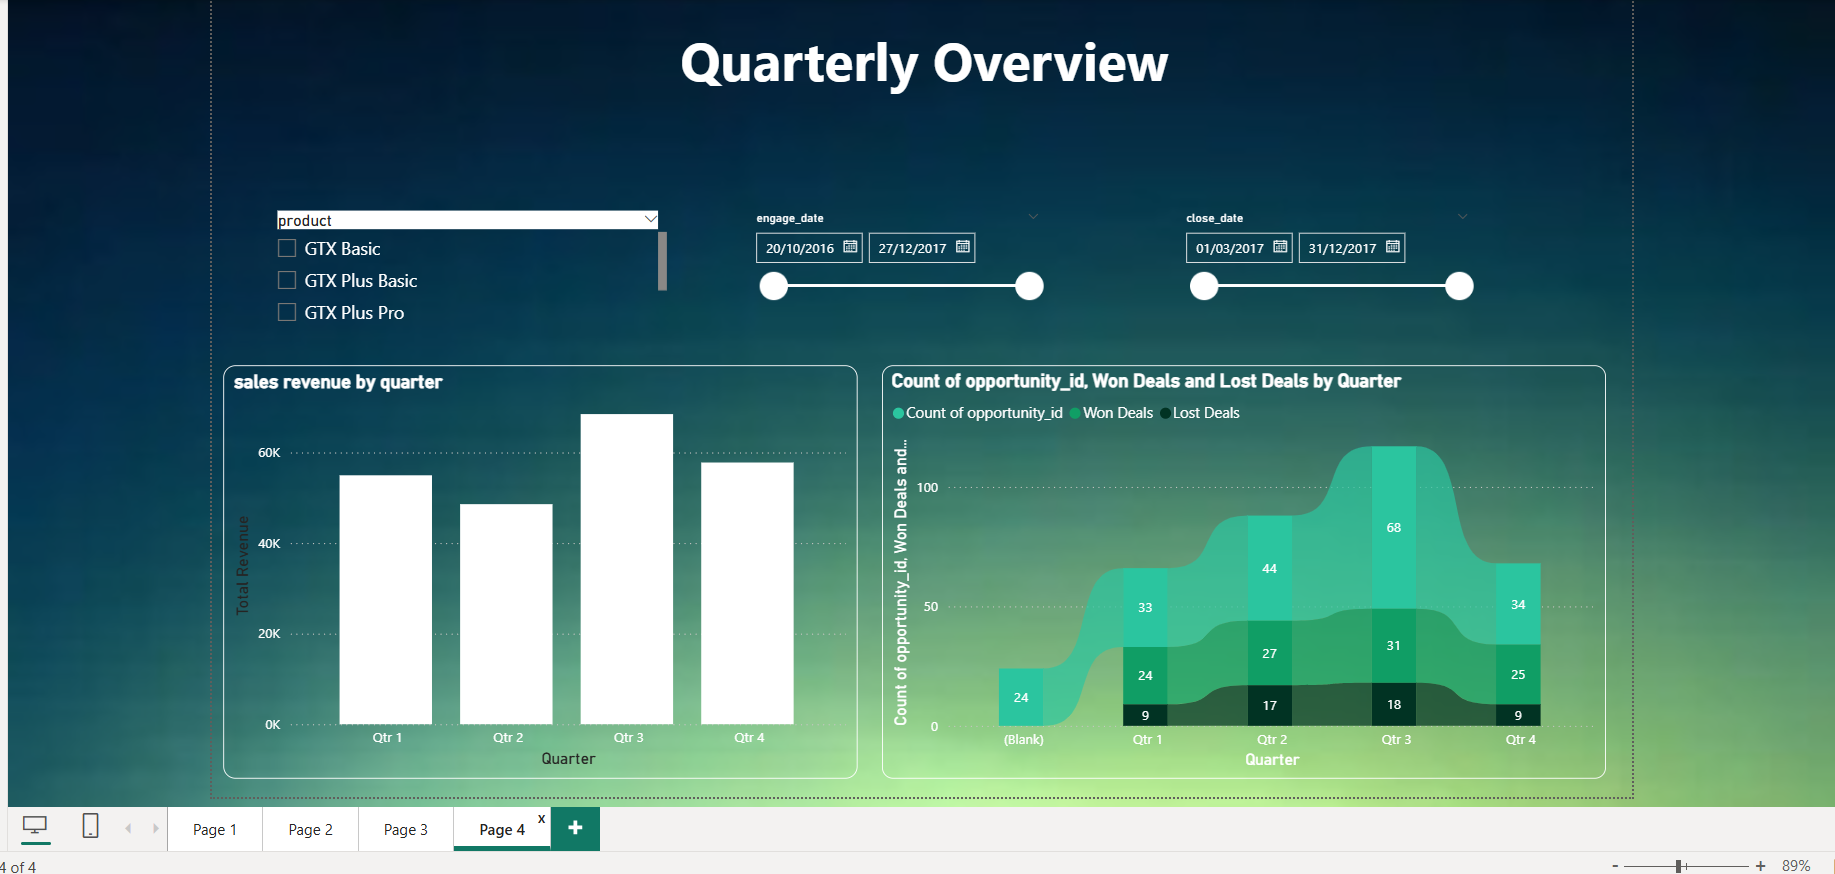

This screenshot's page, from the dashboard's own definition file:
{"tool":"powerbi","page":{"name":"Page 4","canvas":[1280,720],"ordinal":3},"visuals":[{"type":"clusteredColumnChart","title":"sales revenue by quarter","fields":{"Category":["sales_pipeline2.engage_date.Variation.Date Hierarchy.Quarter"],"Y":["sales_pipeline2.Total Revenue"]},"box":[9.7,329.7,571.8,372.9],"z":0},{"type":"ribbonChart","fields":{"Category":["sales_pipeline2.engage_date.Variation.Date Hierarchy.Quarter"],"Y":["CountNonNull(sales_pipeline2.opportunity_id)","sales_pipeline2.Won Deals","sales_pipeline2.Lost Deals"]},"box":[603.8,329.7,652.5,372.9],"z":1000},{"type":"slicer","fields":{"Values":["sales_pipeline2.close_date"]},"box":[865.4,186.4,279.7,101.6],"z":2000},{"type":"slicer","fields":{"Values":["sales_pipeline2.engage_date"]},"box":[478.1,185.9,280,101.5],"z":3000},{"type":"textbox","box":[29.3,17.1,1226.5,88],"z":4000},{"type":"slicer","fields":{"Values":["sales_pipeline2.product"]},"box":[45.9,186.4,368.7,116.9],"z":6000}]}

Visuals, with their boxes on the page's 1280x720 design canvas (x1, y1, x2, y2). These are canvas units, not pixel positions in the 1835x874 screenshot, which may show the page scaled, cropped or inside an application window:
"sales revenue by quarter" clusteredColumnChart: box=[10, 330, 582, 703]
ribbonChart - sales_pipeline2.engage_date.Variation.Date Hierarchy.Quarter x CountNonNull(sales_pipeline2.opportunity_id): box=[604, 330, 1256, 703]
slicer - sales_pipeline2.close_date: box=[865, 186, 1145, 288]
slicer - sales_pipeline2.engage_date: box=[478, 186, 758, 287]
textbox: box=[29, 17, 1256, 105]
slicer - sales_pipeline2.product: box=[46, 186, 415, 303]
